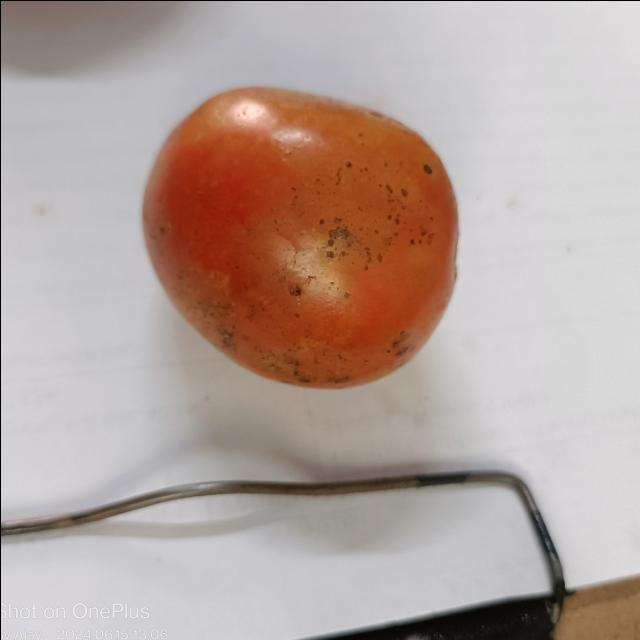Bacterial_Spot: (414, 153, 434, 180), (284, 280, 308, 302)
